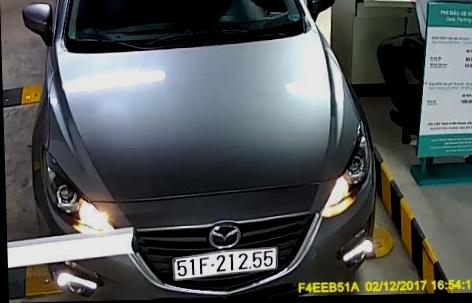License_Plate: (170, 247, 279, 280)
